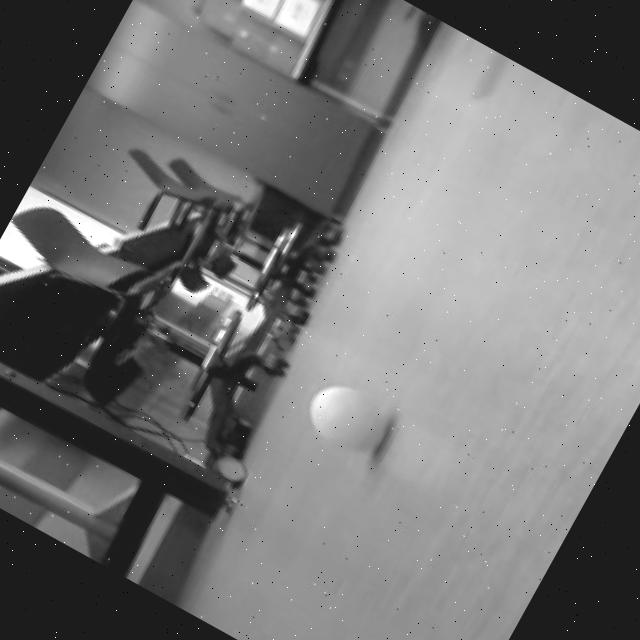ping-pong-ball: (287, 362, 410, 476)
